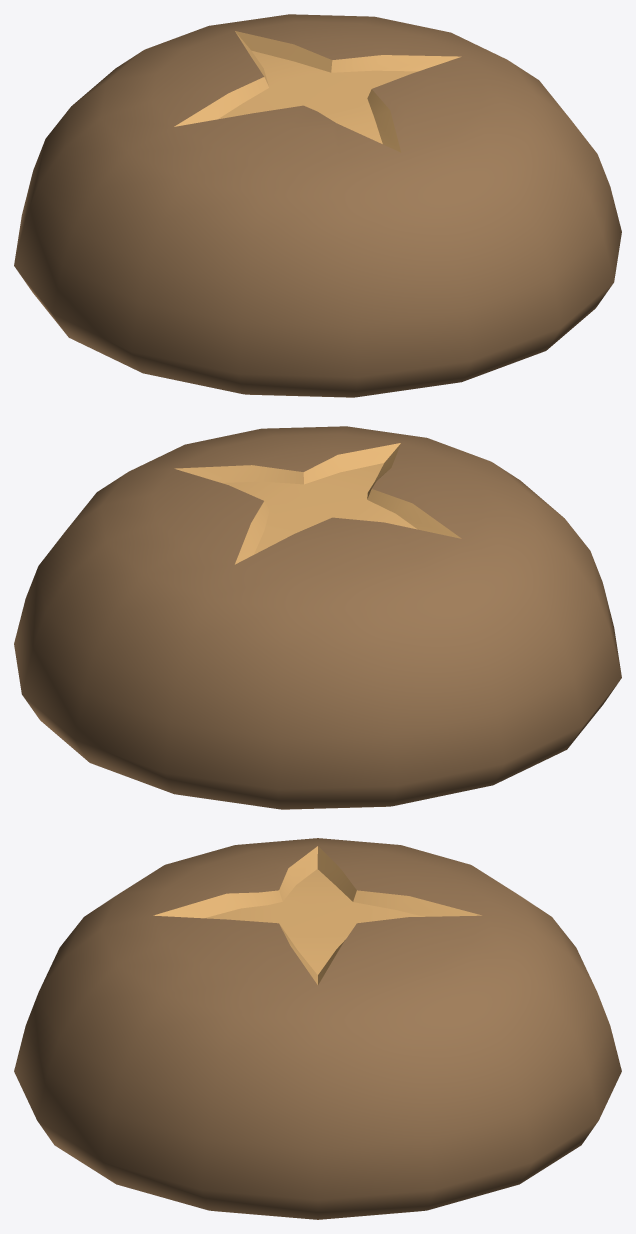
File: bun.fbx
3 views of the same model, one above another, from view 1: azimuth 30°, elevation 25°; view 2: azimuth 150°, elevation 25°; view 3: azimuth 270°, elevation 25° (orthographic).
Parts seen in each view (by area): view 1: pCylinder6; view 2: pCylinder6; view 3: pCylinder6.
Boxes of the visible parts, x1,y1,x2,y2 form: pCylinder6: (14, 14, 621, 397); pCylinder6: (14, 426, 621, 809); pCylinder6: (14, 838, 621, 1219).
Bounding box in the file's own units: 40.03 × 14.88 × 40.03.
